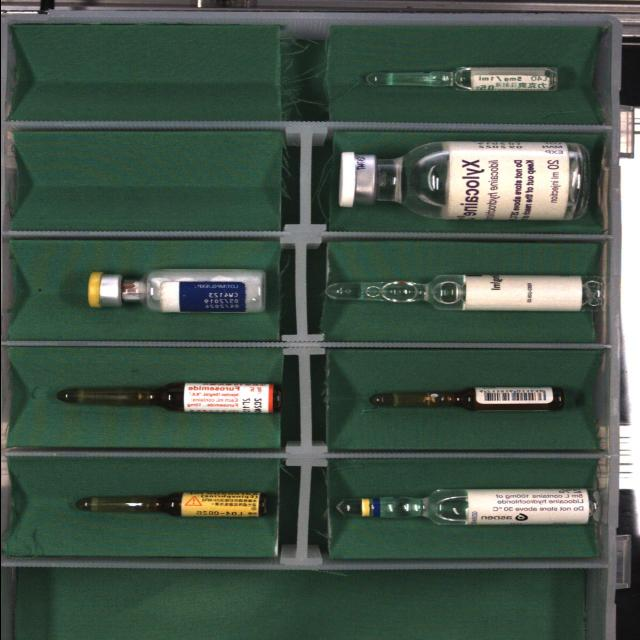Vials: (338, 142, 588, 220), (86, 269, 265, 313)
